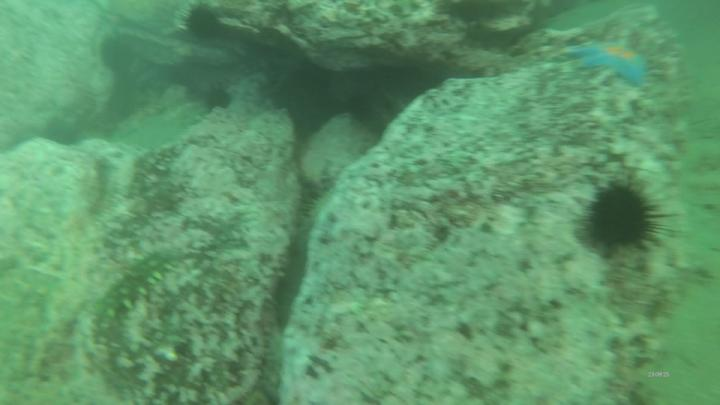echinus: (581, 176, 658, 259), (177, 2, 224, 45)
holothurian: (94, 247, 177, 333)
starfish: (563, 39, 655, 88)
